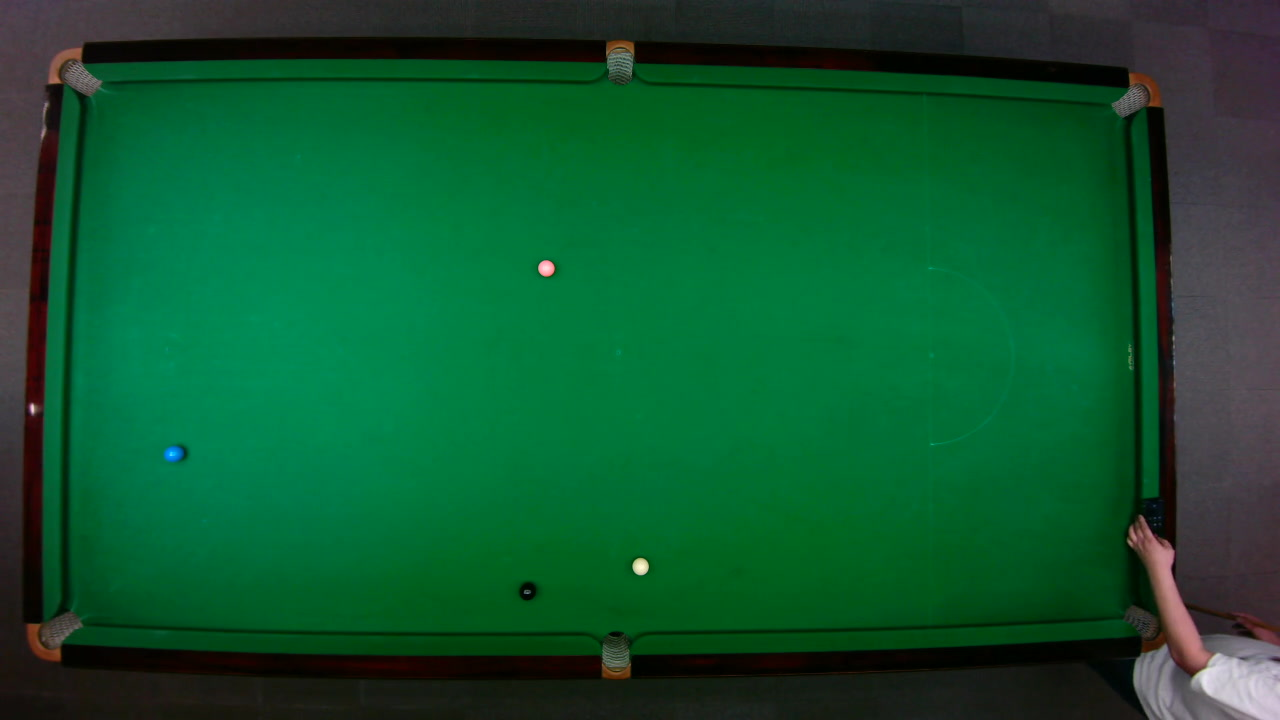bag: (24, 609, 84, 661), (45, 46, 101, 96), (1122, 603, 1176, 654), (1108, 71, 1161, 118), (600, 629, 630, 680), (605, 38, 633, 85)
black: (518, 581, 536, 601)
blue: (162, 444, 184, 462)
pink: (536, 259, 555, 277)
white: (630, 556, 650, 575)
zone: (927, 266, 1013, 445)
